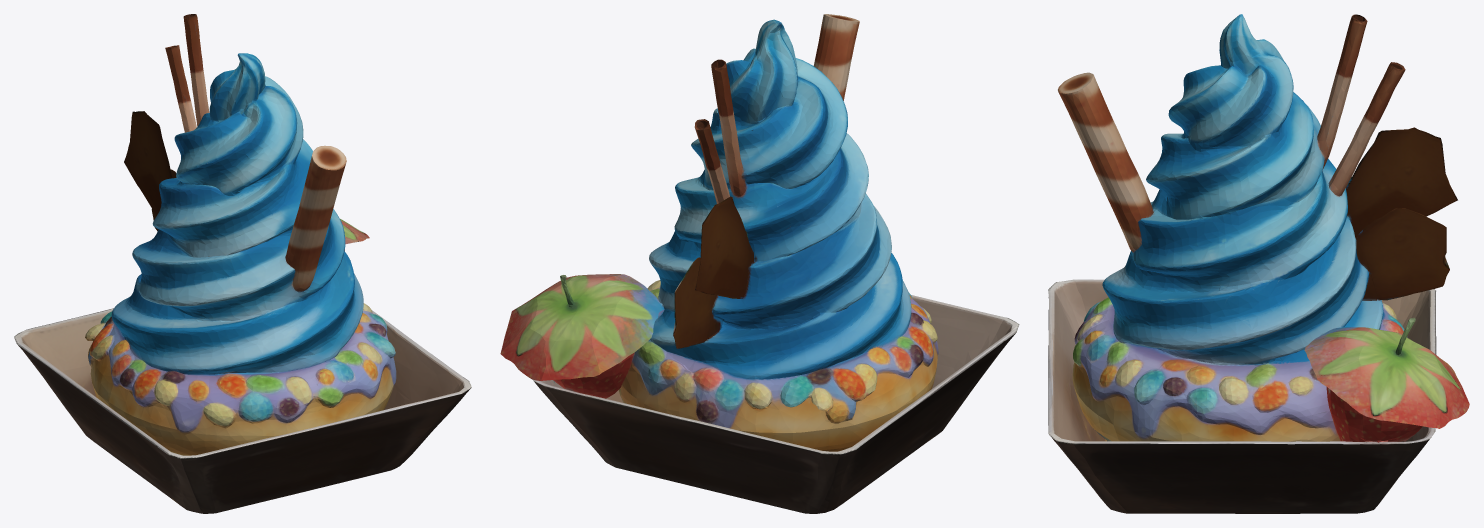
The model's file is PartObjaverseTiny_Three.glb.
3 views of the same model, side by side, from view 1: azimuth 30°, elevation 25°; view 2: azimuth 150°, elevation 25°; view 3: azimuth 270°, elevation 25° (orthographic). The views are drawn at different scales.
Parts seen in each view (by area): view 1: world; view 2: world; view 3: world.
Part boxes in pixels (x1,y1,x2,y2): world: (14,14,471,513); world: (500,14,1019,513); world: (1048,14,1469,513).
Size of the model in its own units: 0.8913 by 1 by 0.8683.
Materials: 1 (1 with a texture image).
